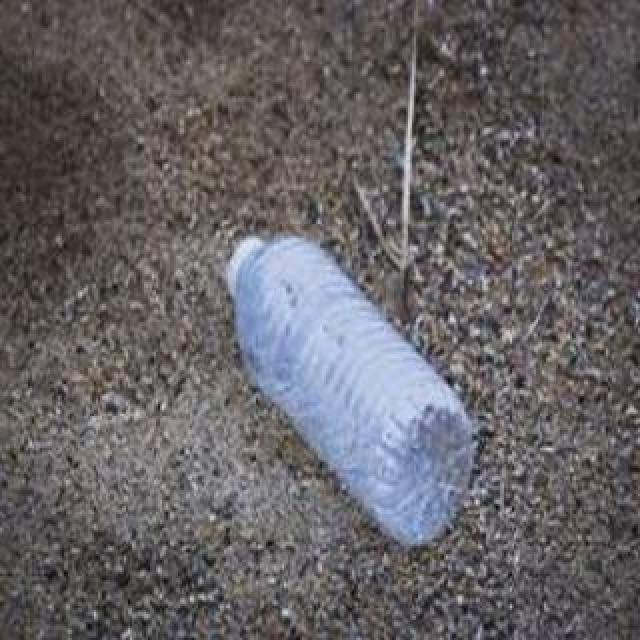Pet_Bottle: (224, 227, 472, 555)
